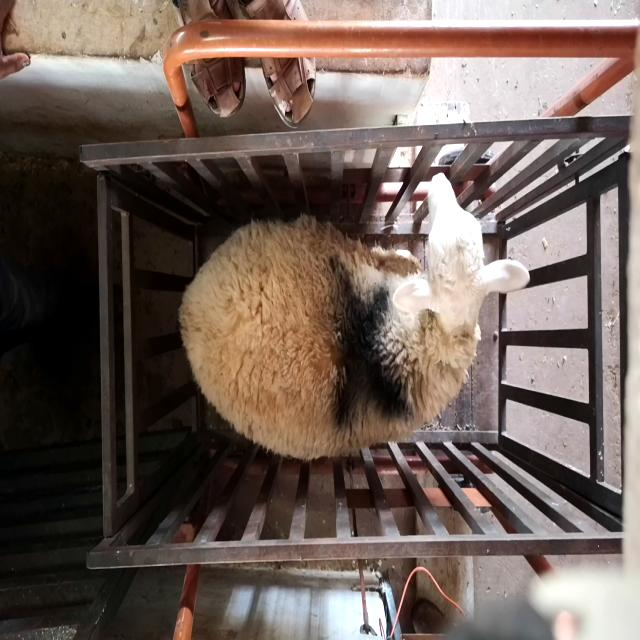sheep: (178, 172, 531, 460)
